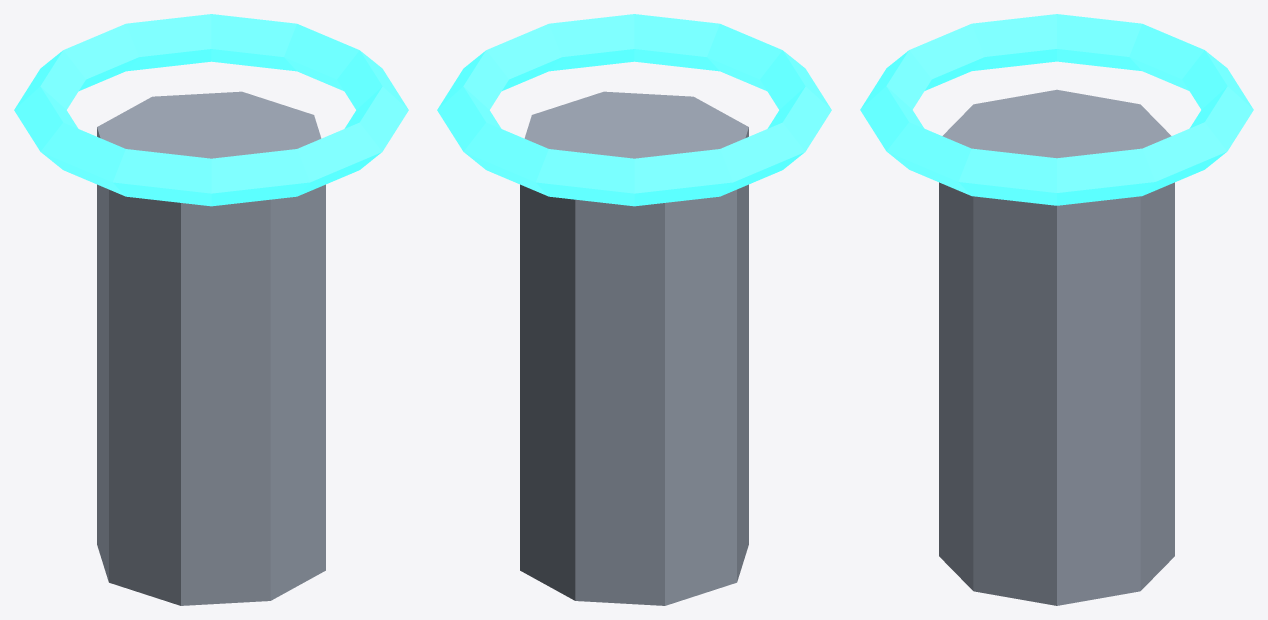
Rendered from platform_bridge_anchor.glb.
3 views of the same model, side by side, from view 1: azimuth 30°, elevation 25°; view 2: azimuth 150°, elevation 25°; view 3: azimuth 270°, elevation 25° (orthographic).
Visible parts, largest first — view 1: platform_bridge_anchor; view 2: platform_bridge_anchor; view 3: platform_bridge_anchor.
Part boxes in pixels (x1=…): platform_bridge_anchor: x1=14, y1=14, x2=408, y2=605; platform_bridge_anchor: x1=437, y1=14, x2=831, y2=605; platform_bridge_anchor: x1=860, y1=14, x2=1253, y2=605.
Size of the model in its own units: 0.6 by 0.79 by 0.6.
